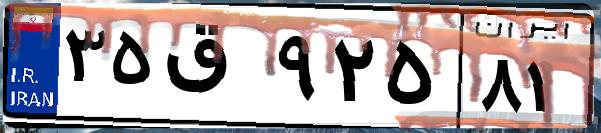1: (525, 38, 570, 115)
2: (330, 28, 385, 110)
3: (57, 26, 110, 100)
5: (385, 28, 445, 110), (110, 28, 158, 98)
8: (475, 38, 525, 113)
9: (270, 28, 330, 110)
ق: (158, 20, 270, 120)
